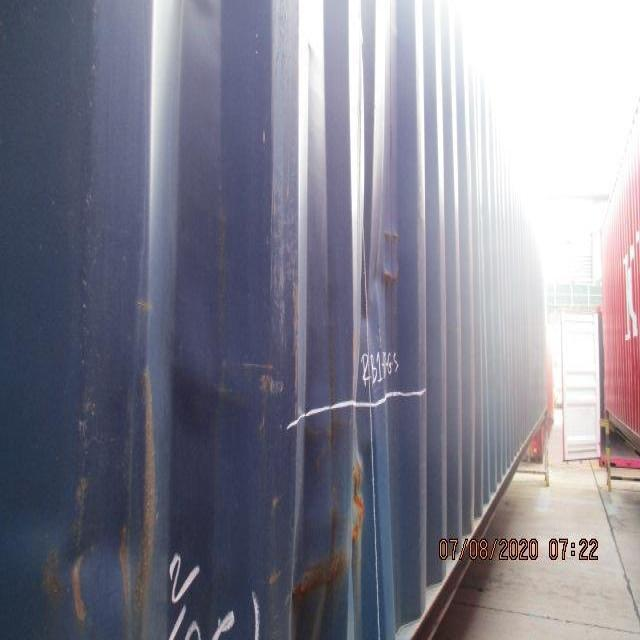dent: (49, 157, 424, 624)
